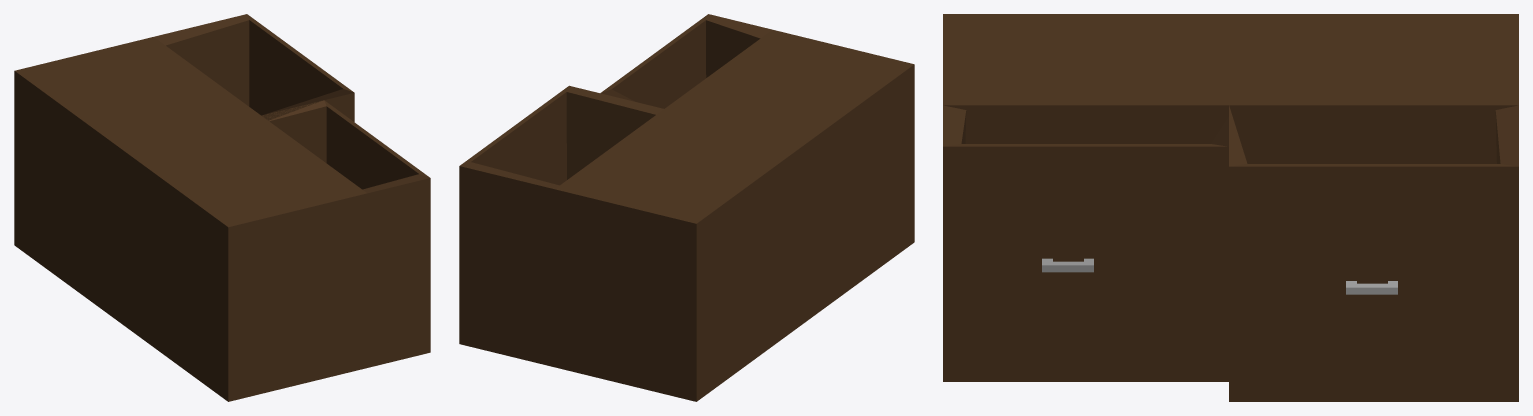
The model's file is cekmece (1).fbx.
3 views of the same model, side by side, from view 1: azimuth 30°, elevation 25°; view 2: azimuth 150°, elevation 25°; view 3: azimuth 270°, elevation 25° (orthographic). The views are drawn at different scales.
Parts seen in each view (by area): view 1: Cube; view 2: Cube; view 3: Cube, Cube.002, Cube.001.
Part boxes in pixels (x1,y1,x2,y2): Cube: [14, 14, 430, 401]; Cube: [459, 14, 914, 401]; Cube: [943, 14, 1518, 401]; Cube.002: [1042, 258, 1093, 272]; Cube.001: [1346, 281, 1397, 294].
Size of the model in its own units: 399 by 275 by 609.
